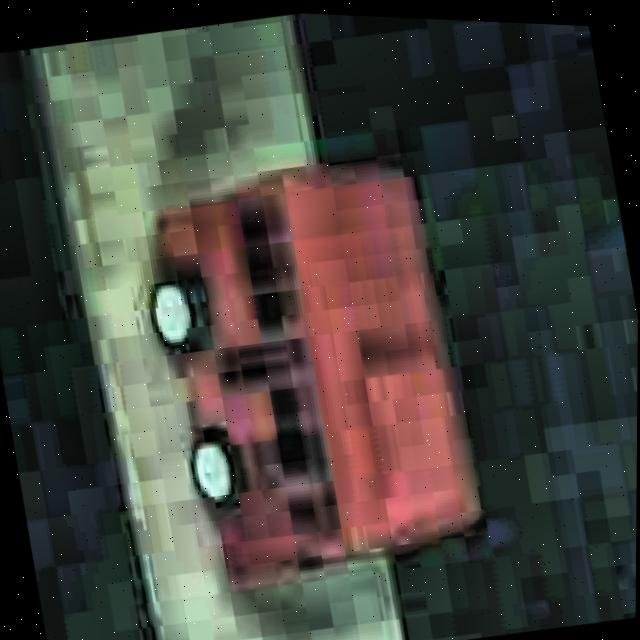bus: (124, 132, 497, 610)
